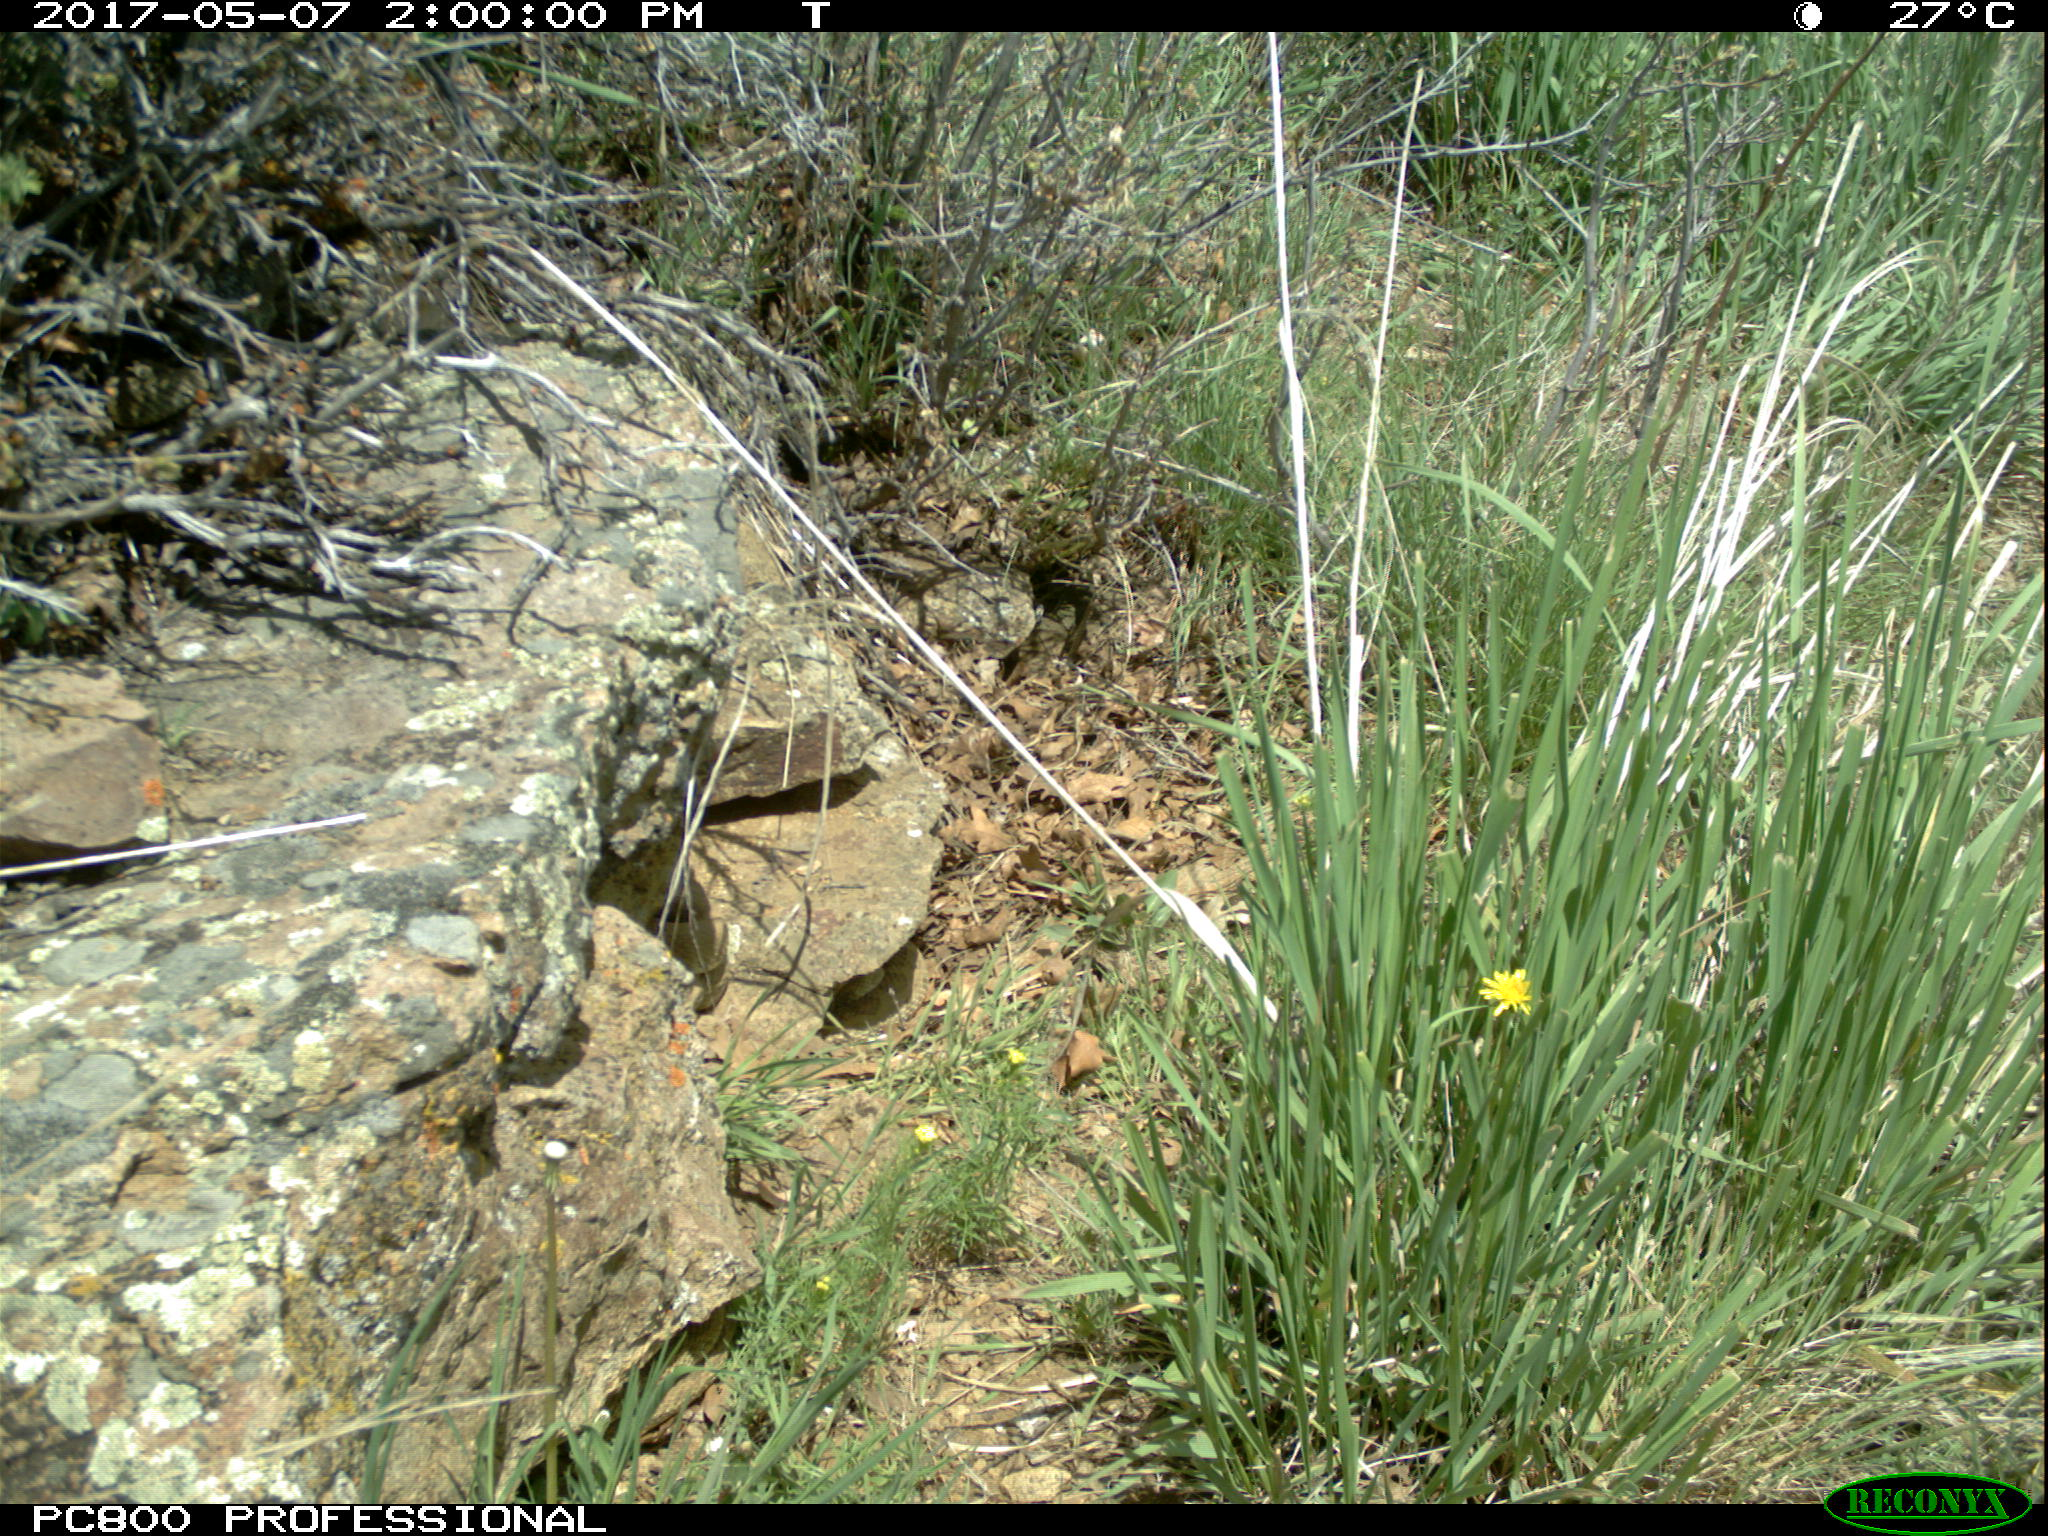snake: (806, 933, 950, 1049)
